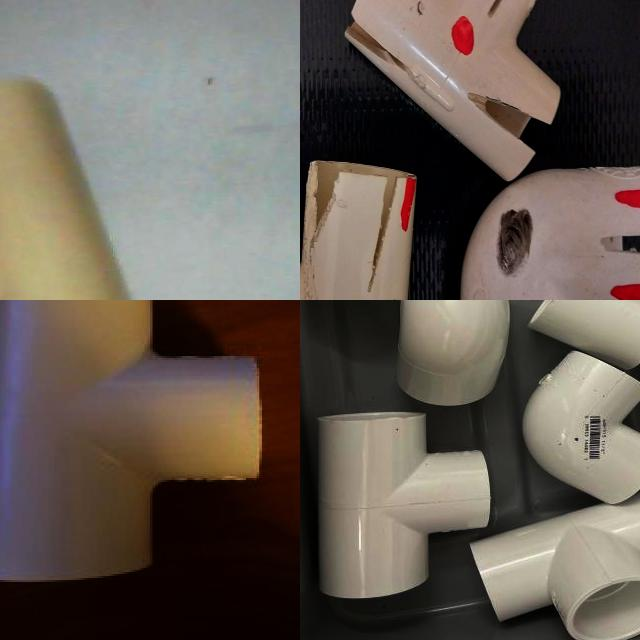Defective: (300, 54, 323, 102), (300, 218, 321, 265), (414, 272, 444, 300), (331, 37, 352, 67), (400, 288, 417, 300)
L Joint: (529, 351, 640, 505), (300, 0, 357, 144)
T Joint: (317, 412, 490, 599), (471, 491, 640, 640)
